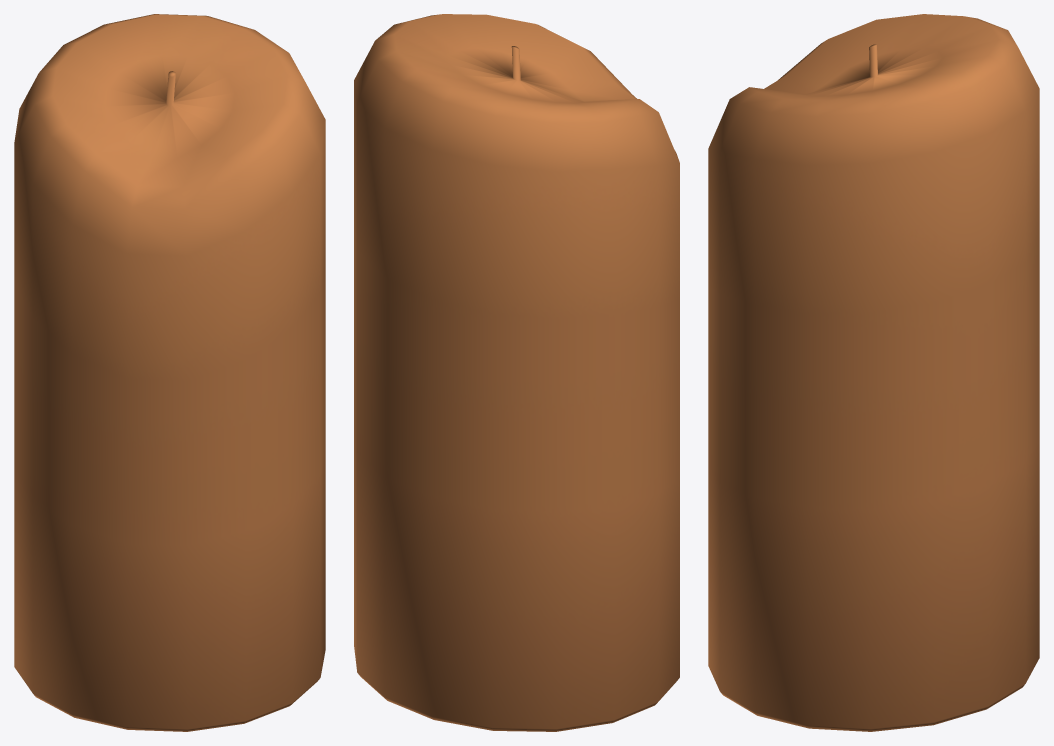
File: Candle.fbx
3 renders of one model, left to right at view 1: azimuth 30°, elevation 25°; view 2: azimuth 150°, elevation 25°; view 3: azimuth 270°, elevation 25°, orthographic. The views are drawn at different scales.
Parts seen in each view (by area): view 1: Cylinder.090; view 2: Cylinder.090; view 3: Cylinder.090.
Part boxes in pixels (left/top/right/bottom): Cylinder.090: left=14, top=14, right=325, bottom=731; Cylinder.090: left=354, top=14, right=679, bottom=731; Cylinder.090: left=708, top=14, right=1039, bottom=731.
Bounding box in the file's own units: 26.06 × 55.36 × 26.06.
